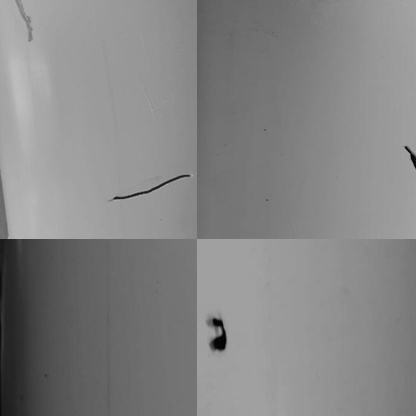fengxi: (101, 170, 194, 206)
kongdong: (205, 312, 229, 354), (403, 145, 416, 169)
